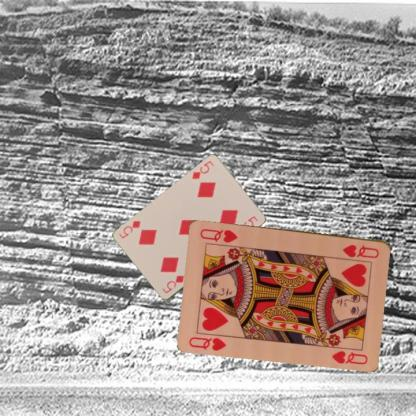5d: (189, 158, 215, 181), (160, 273, 186, 295)
Qh: (186, 334, 228, 352), (340, 242, 381, 260)
